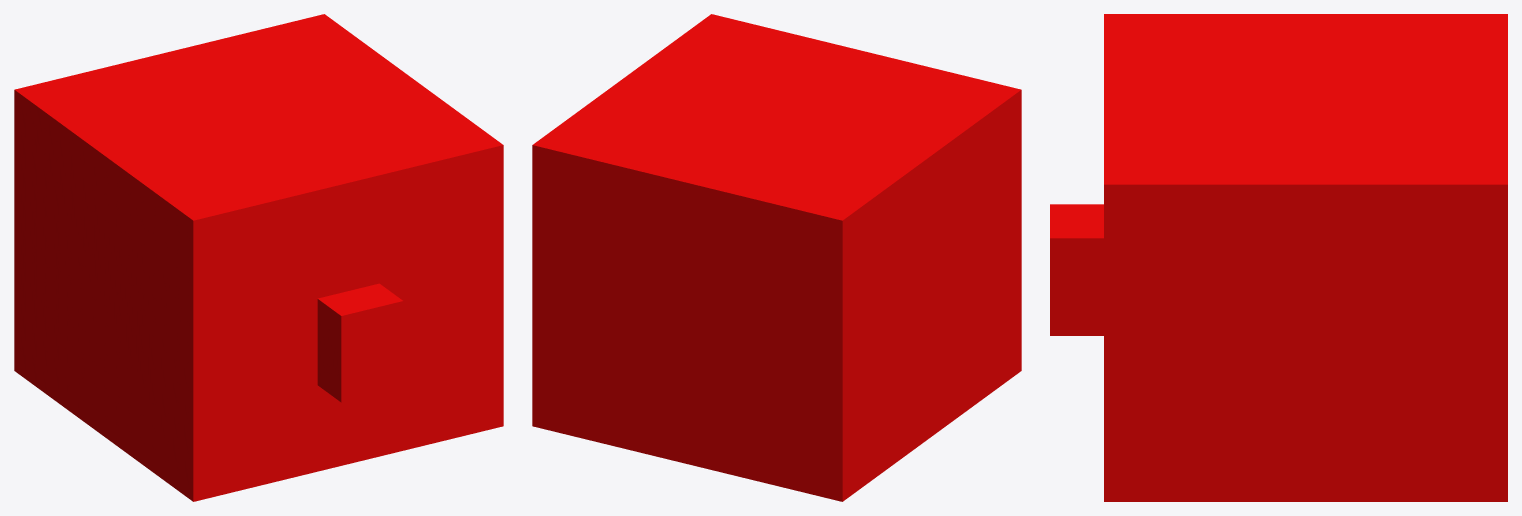
Rendered from recolor_body.fbx.
3 views of the same model, side by side, from view 1: azimuth 30°, elevation 25°; view 2: azimuth 150°, elevation 25°; view 3: azimuth 270°, elevation 25° (orthographic). The views are drawn at different scales.
Visible parts, largest first — view 1: recolor_body; view 2: recolor_body; view 3: recolor_body.
Boxes of the visible parts, x1,y1,x2,y2 form: recolor_body: [14, 14, 503, 501]; recolor_body: [532, 14, 1021, 501]; recolor_body: [1050, 14, 1507, 501].
Bounding box in the file's own units: 15 × 13 × 17.
Materials: 1 (1 with a texture image).
